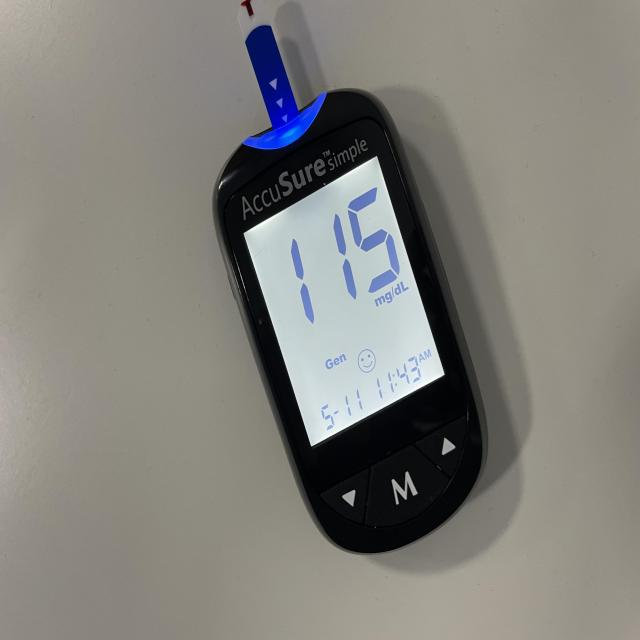gluco: (212, 25, 486, 557)
